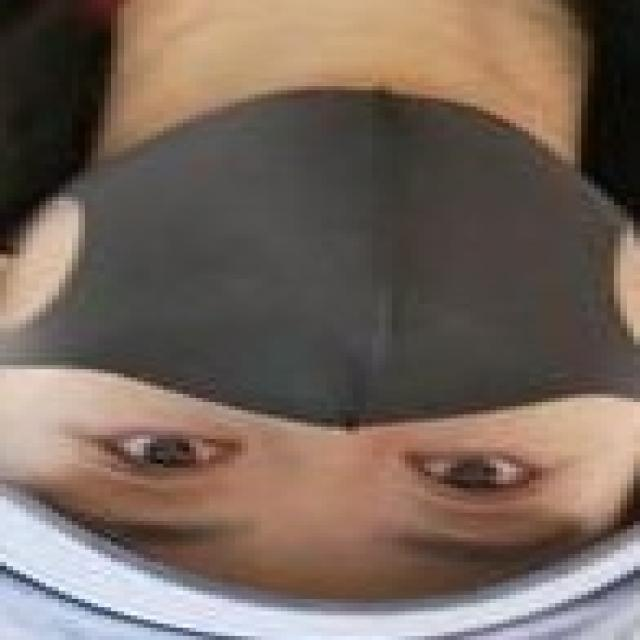mask: (14, 102, 625, 445)
